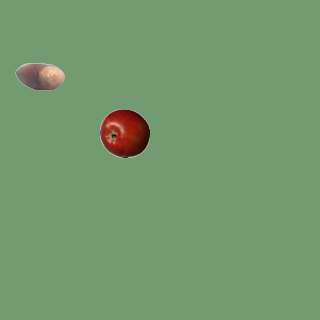Apple Braeburn: (99, 108, 149, 158)
Hazelnut: (14, 51, 64, 101)
